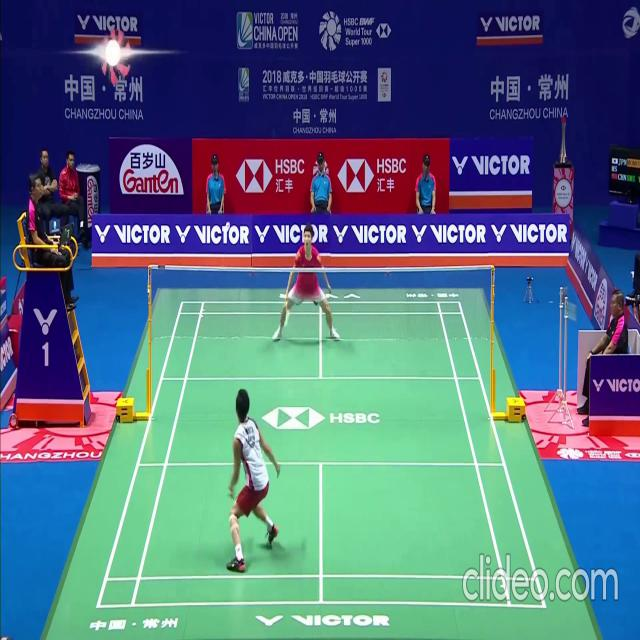Shuttlecock: (225, 222, 230, 230)
